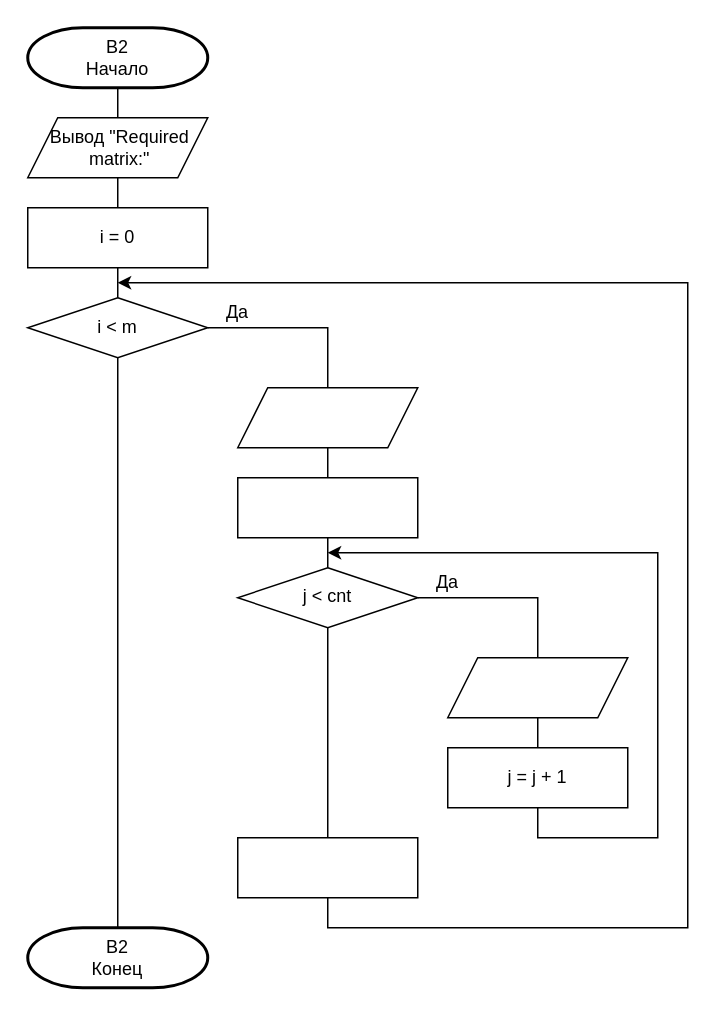
Some shapes in this 726 by 1014 pixel diagram are drawn without their labels. The shapes that lost their labels are listed below. From the top down, each one's box as (x1, y1, x2, y2) in pixels, then its label:
(236, 386, 418, 448): Вывод "\n"
(236, 476, 418, 538): j = 0
(446, 656, 628, 718): Вывод b[i][j]
(236, 836, 418, 898): i = i + 1
